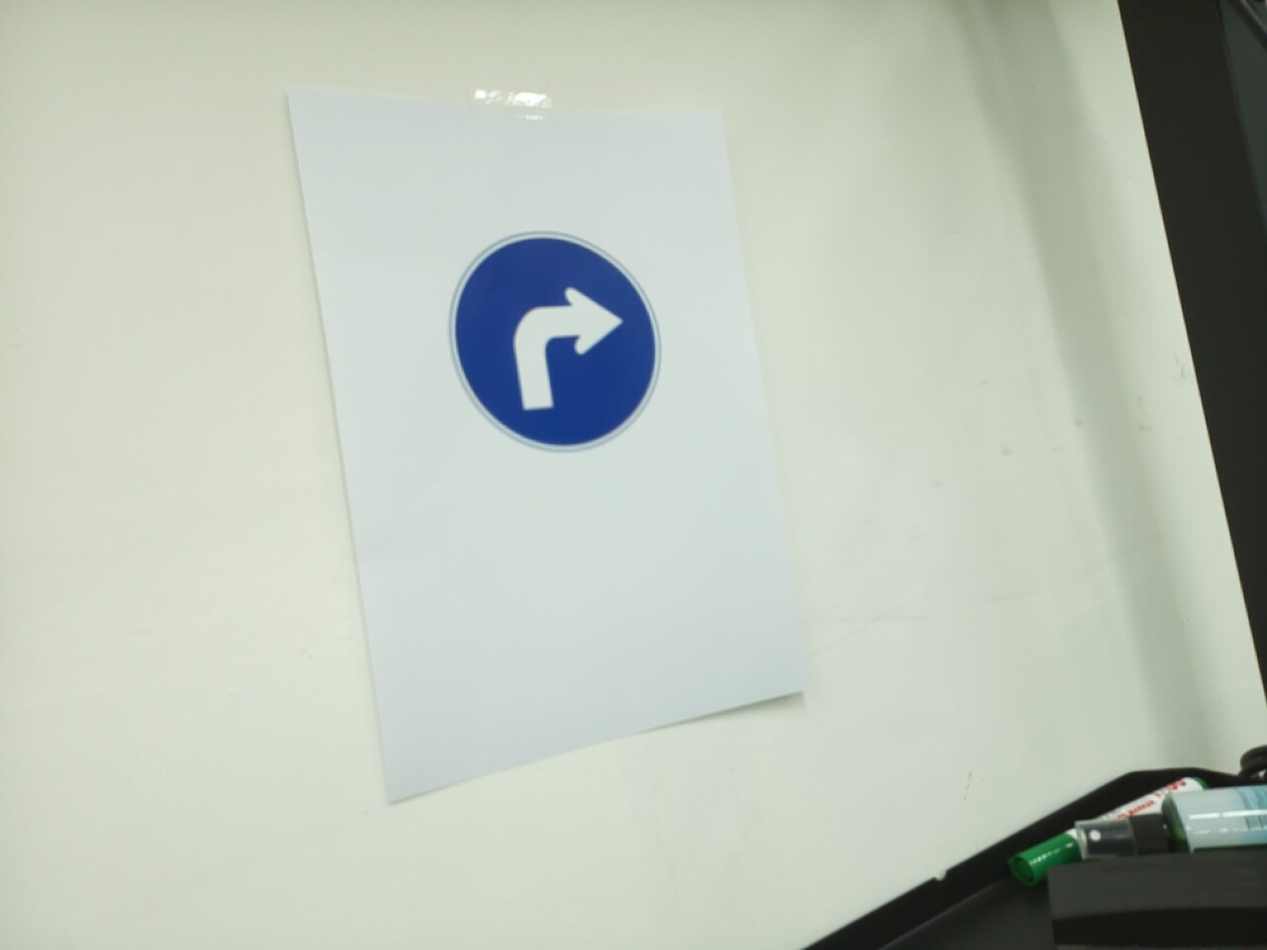right_turn: (447, 230, 663, 453)
